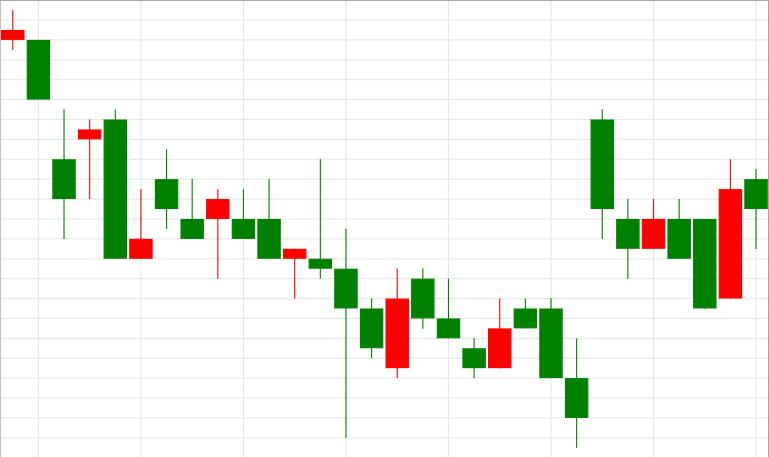bullish_engulfing_rise: (232, 159, 409, 438)
